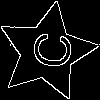C: (21, 27, 74, 72)
